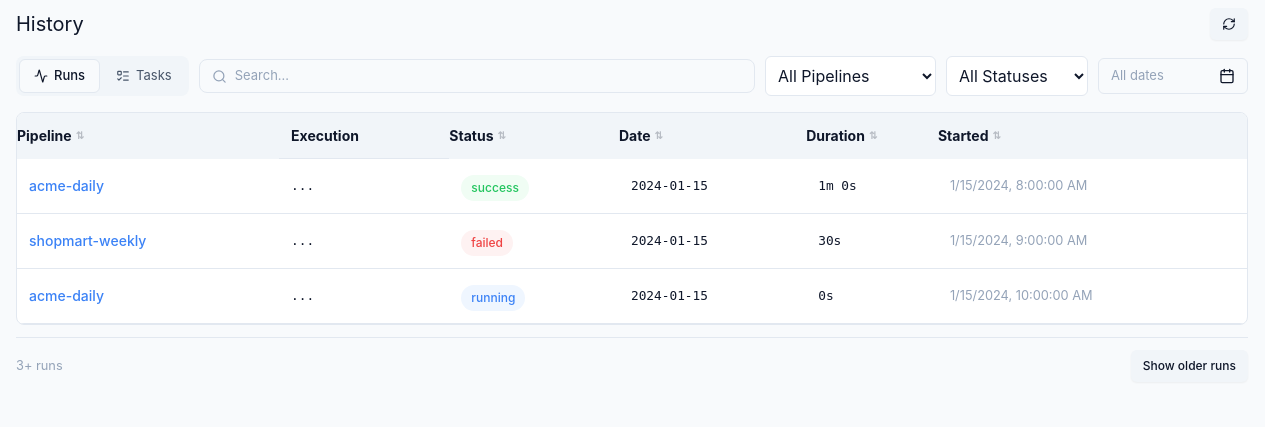
Test: AllRunsView › paging › can still reach older runs when the search matches none of the loaded ones
Type "zzz" into the field named "Search runs" at (488, 76), box [235, 66, 742, 86]
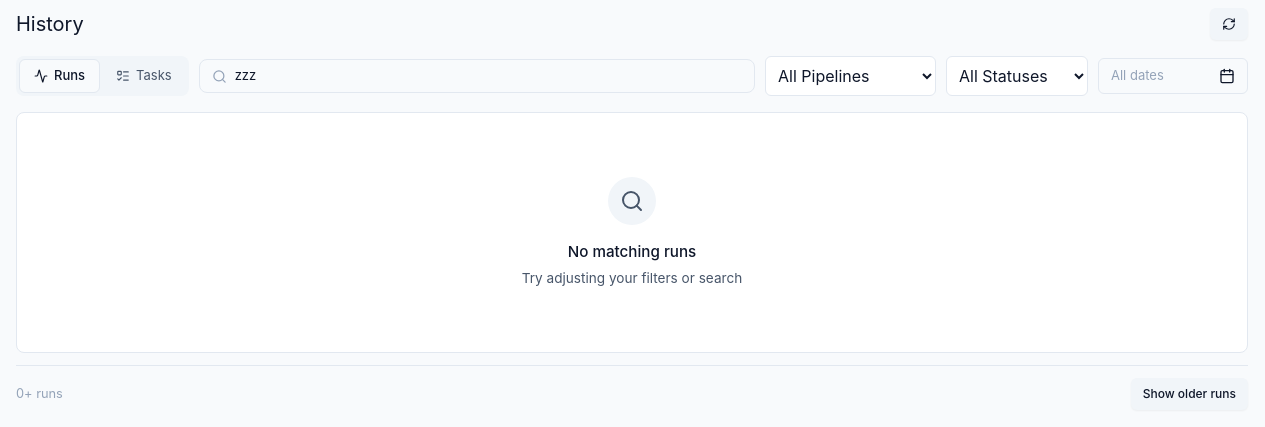
Expected: the button "Show older runs" is shown, [1131, 378, 1248, 410]
Expected: the text "No matching runs" is shown, [568, 242, 696, 261]
